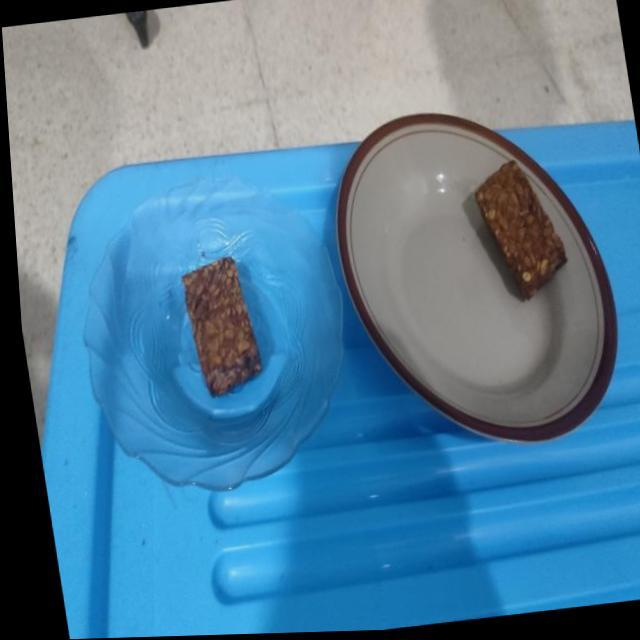tempe_goreng: (475, 161, 566, 298), (182, 257, 260, 395)
